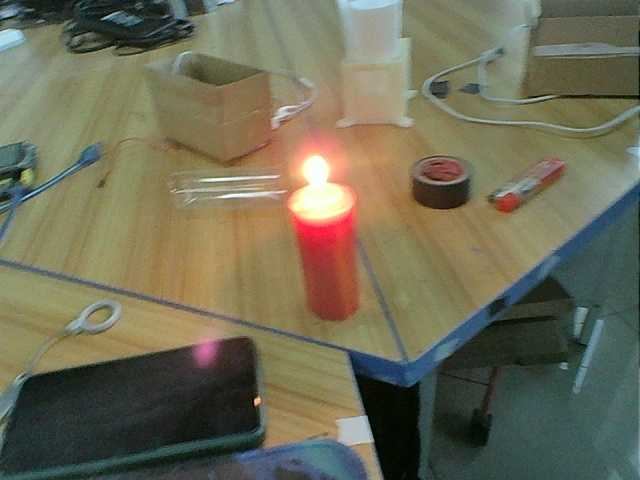candle: (290, 212, 358, 322)
fire: (288, 155, 350, 208)
